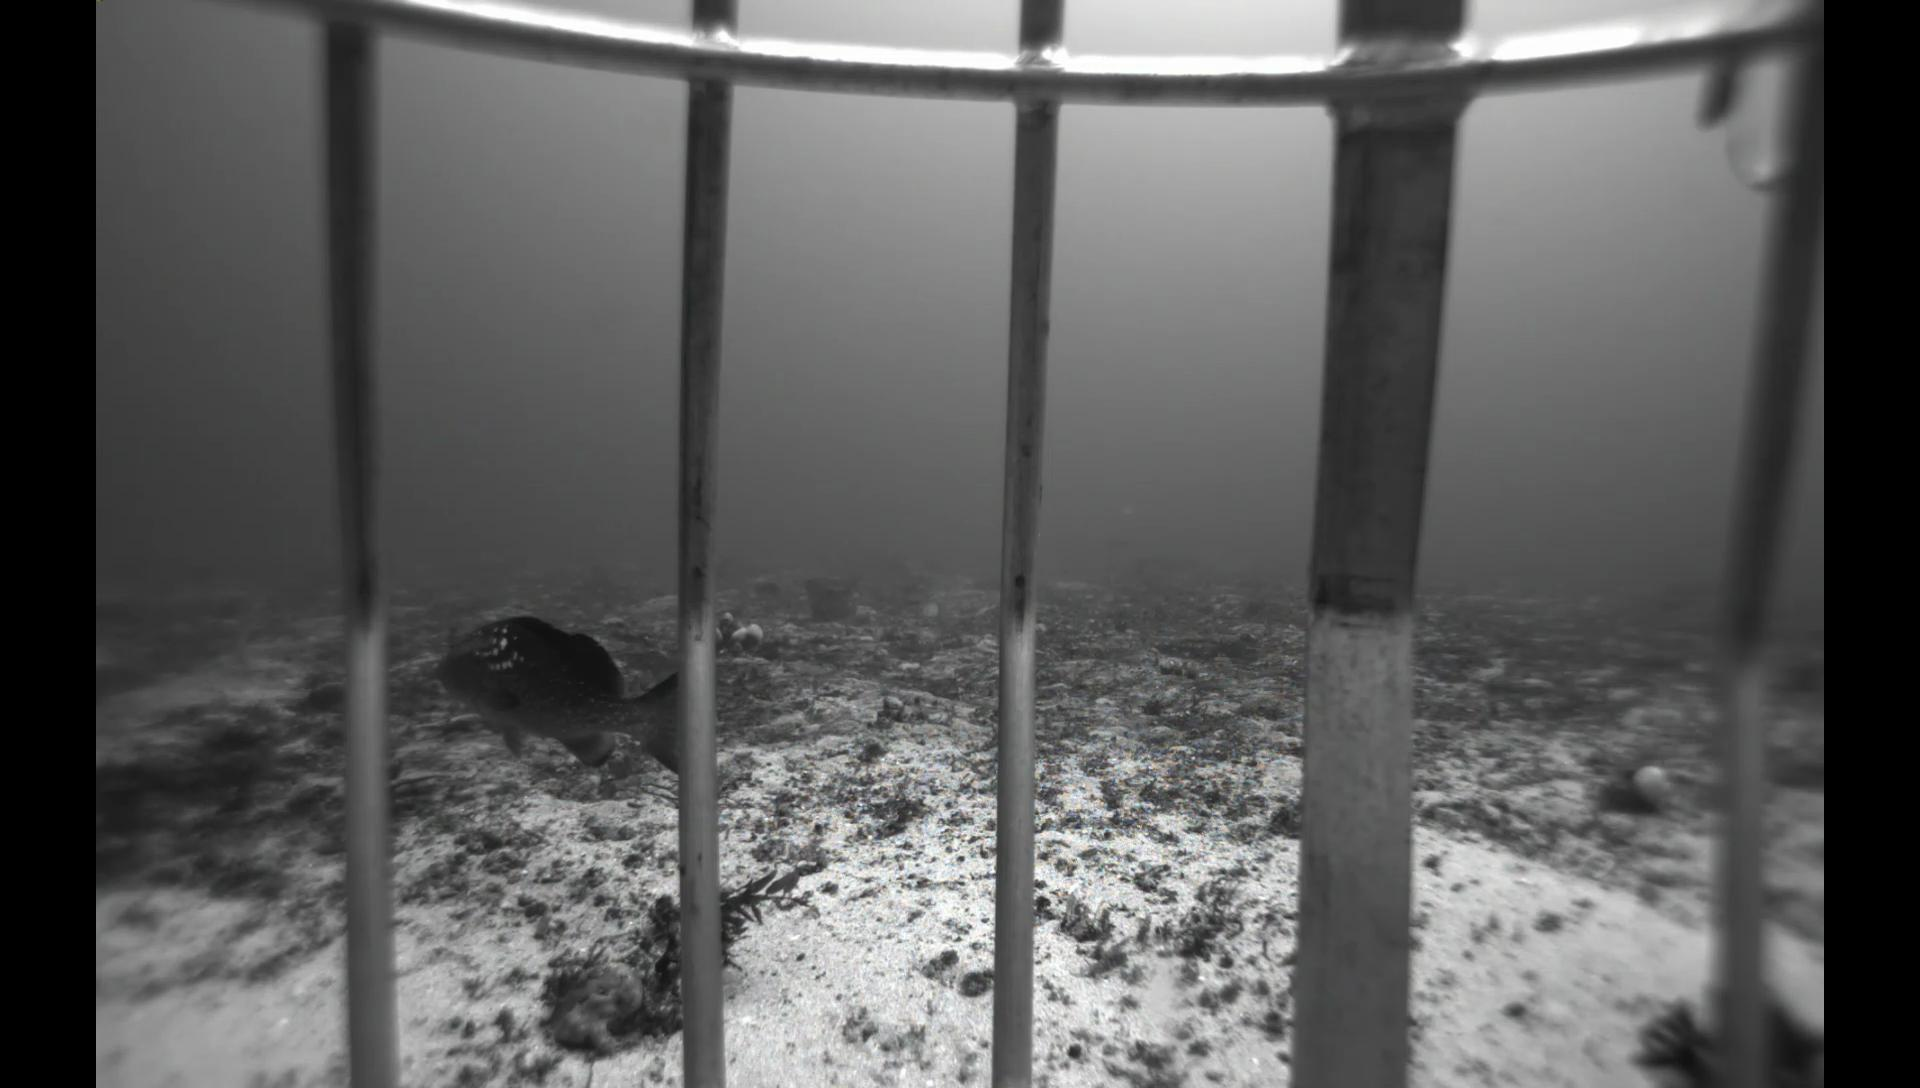CHAETODONOCELLATUS-170260307: (913, 599, 945, 622), (1093, 588, 1120, 607)
EPINEPHELUSMORIO-170021211: (410, 605, 682, 799)
PRISTIGENYSALTA-170050401: (295, 675, 345, 717)
